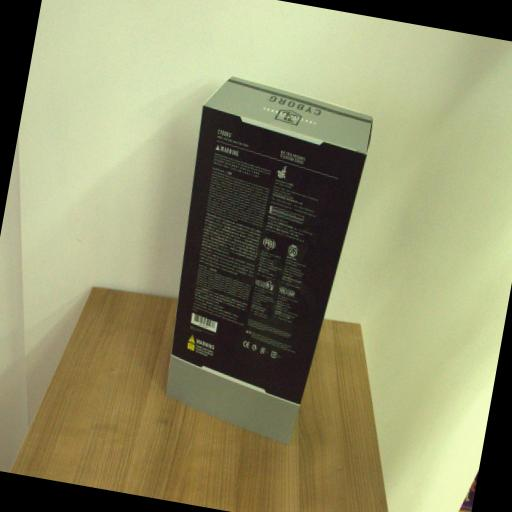Cyborg: (146, 70, 377, 450)
